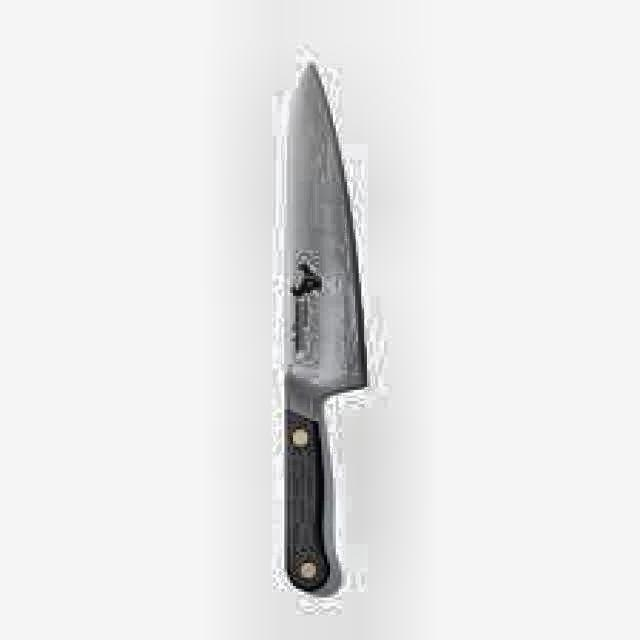knife: (281, 57, 369, 598)
